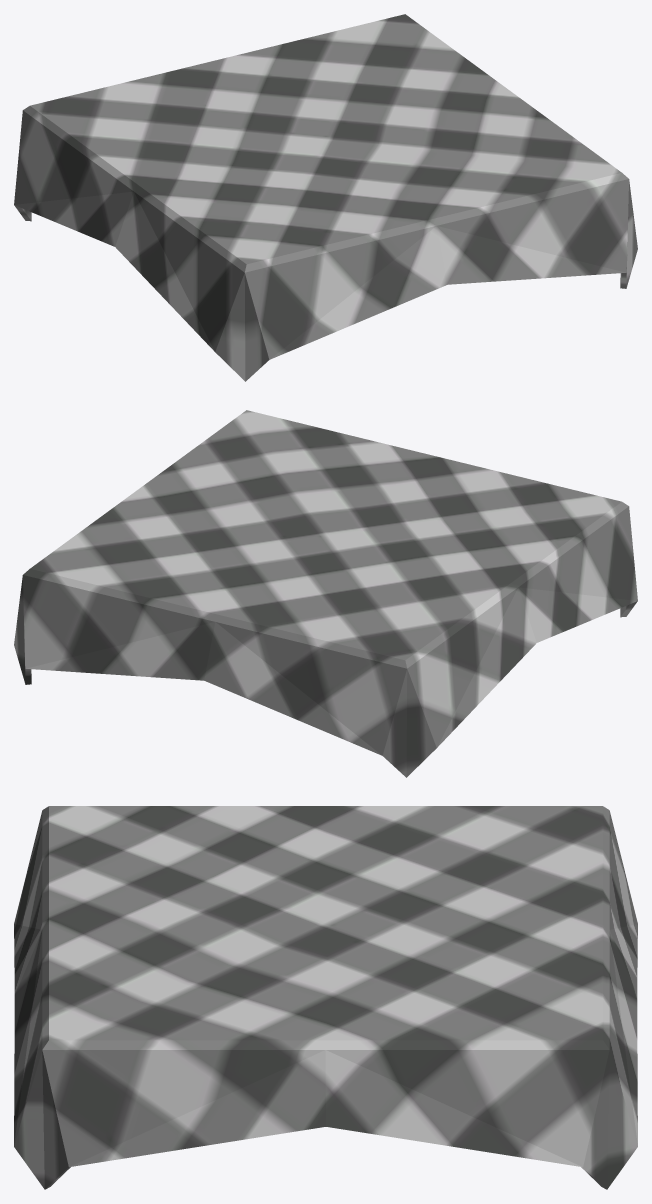
File: SM_Prop_Cafe_Table_Cloth_02.obj
The picture shows the model from 3 angles, top to bottom: view 1: azimuth 30°, elevation 25°; view 2: azimuth 150°, elevation 25°; view 3: azimuth 270°, elevation 25°; orthographic projection. The views are drawn at different scales.
Visible parts, largest first — view 1: SM_Prop_Cafe_Table_Cloth_02_0; view 2: SM_Prop_Cafe_Table_Cloth_02_0; view 3: SM_Prop_Cafe_Table_Cloth_02_0.
Part boxes in pixels (left/top/right/bottom): SM_Prop_Cafe_Table_Cloth_02_0: left=14, top=14, right=637, bottom=381; SM_Prop_Cafe_Table_Cloth_02_0: left=14, top=410, right=637, bottom=777; SM_Prop_Cafe_Table_Cloth_02_0: left=14, top=806, right=637, bottom=1189.
Size of the model in its own units: 0.8373 by 0.2189 by 0.8373.
Materials: 1 (1 with a texture image).
